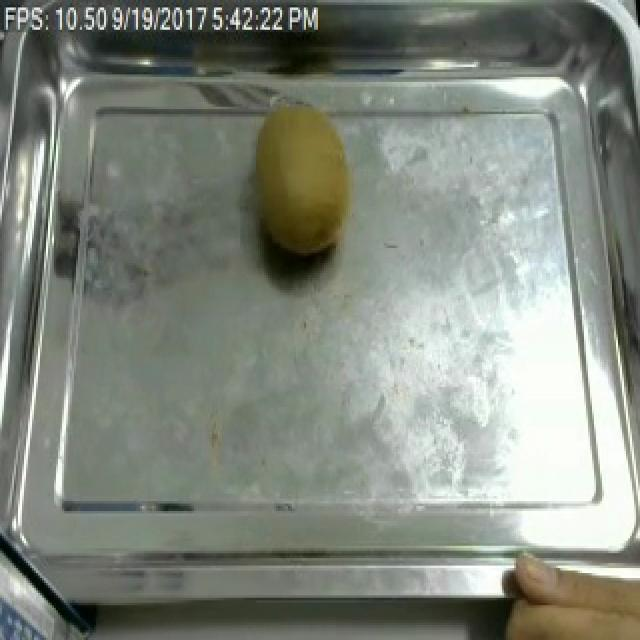Fruit: (242, 104, 364, 266), (486, 536, 640, 640)
